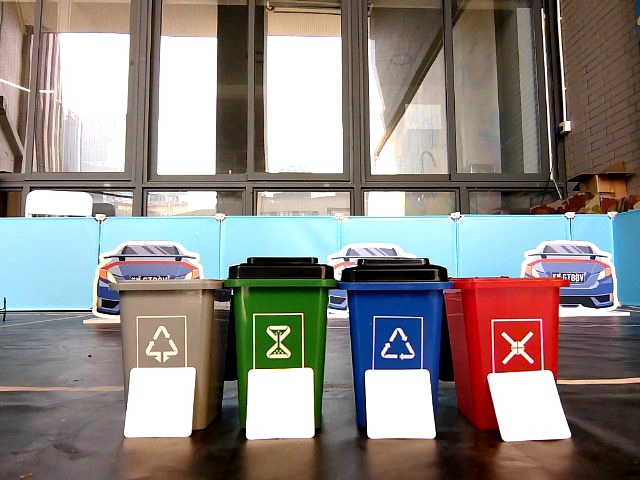blue_close: (345, 259, 435, 365)
green_close: (238, 258, 321, 362)
grey_open: (118, 281, 214, 367)
red_open: (461, 278, 554, 368)
